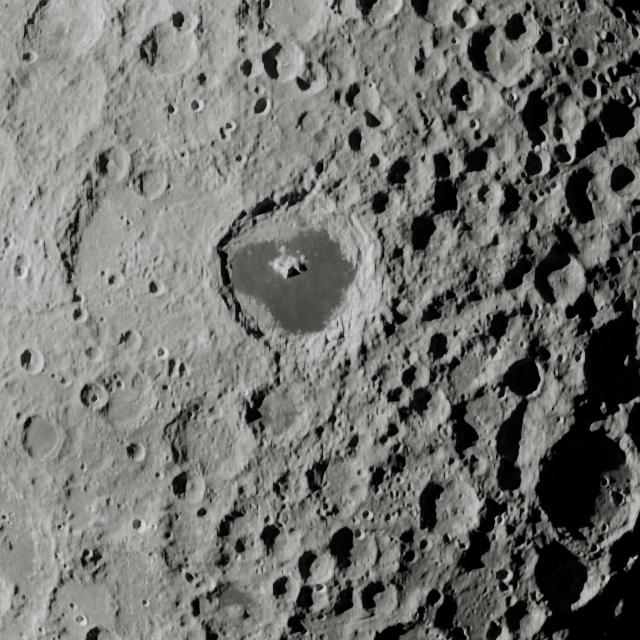crater: (211, 182, 380, 354), (535, 429, 640, 545), (528, 541, 602, 613), (419, 468, 483, 548), (455, 19, 527, 75), (563, 160, 614, 225), (533, 246, 585, 308), (11, 411, 67, 462), (328, 522, 378, 576), (594, 91, 639, 143), (260, 39, 304, 83), (290, 56, 332, 95), (506, 356, 545, 397), (345, 76, 386, 115), (602, 154, 636, 201), (90, 145, 132, 183), (358, 578, 398, 614), (295, 548, 333, 584), (425, 329, 462, 365), (137, 168, 174, 200), (174, 469, 204, 505), (77, 382, 113, 410), (344, 125, 380, 153), (272, 576, 301, 609), (400, 362, 430, 393), (522, 148, 552, 178), (258, 522, 285, 555), (16, 349, 48, 374), (569, 42, 595, 72), (120, 439, 151, 464), (576, 74, 601, 104), (249, 95, 277, 117), (553, 142, 574, 166), (188, 98, 211, 116), (129, 517, 146, 531)
rock: (271, 251, 310, 280), (85, 391, 99, 404)
